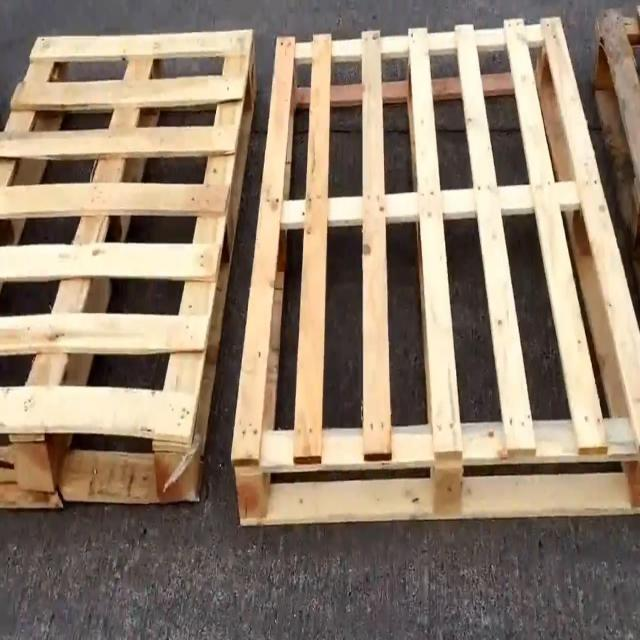Palette: (232, 1, 640, 535), (0, 22, 262, 517), (587, 0, 640, 285)
